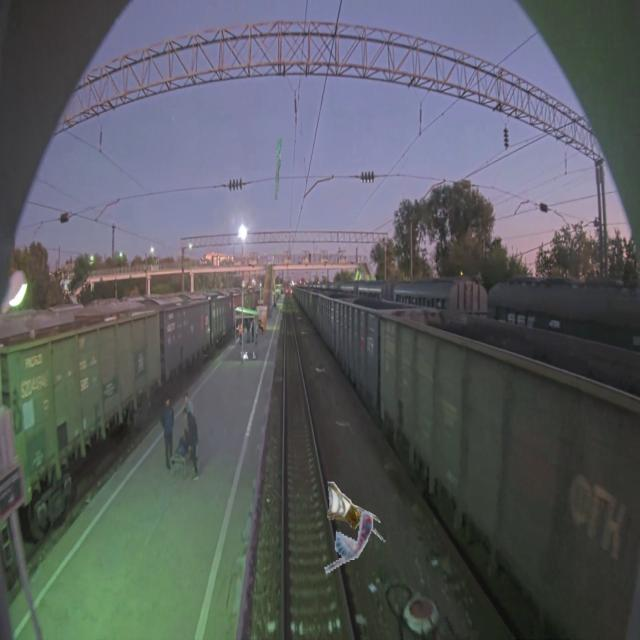floating object: (327, 482, 387, 546), (321, 509, 374, 574), (275, 136, 282, 200)
